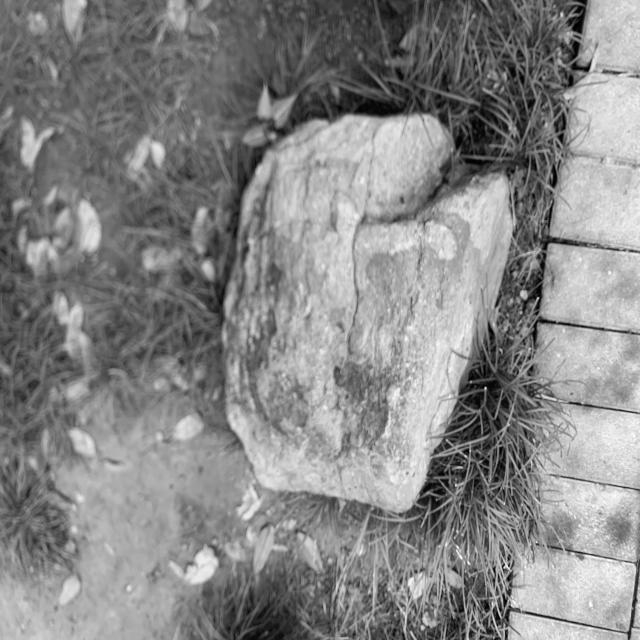Stone: (222, 115, 512, 511)
